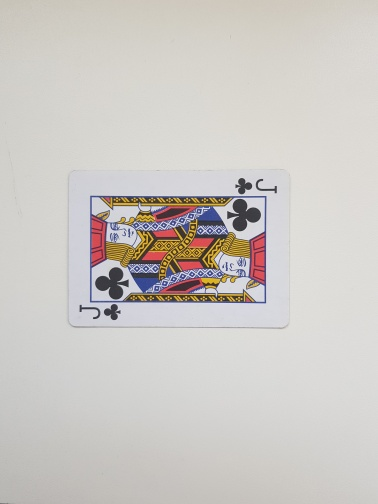jack: (65, 168, 292, 329)
